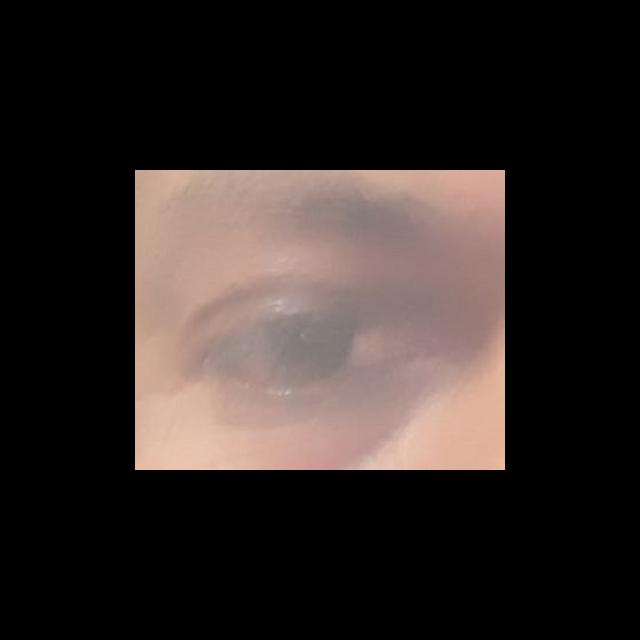eye: (214, 310, 377, 389)
iris: (262, 319, 353, 381)
